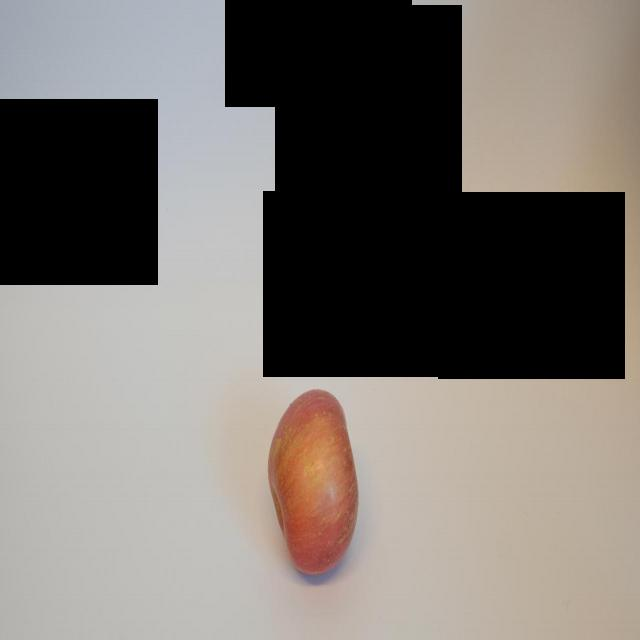apple: (272, 383, 357, 587)
